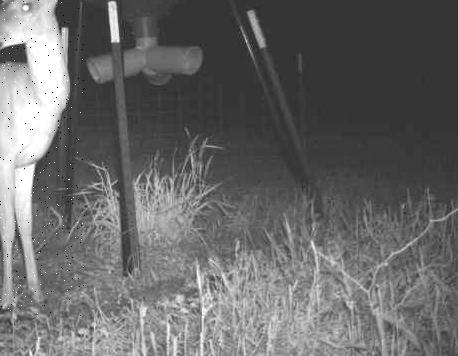Deer: (0, 0, 85, 317)
